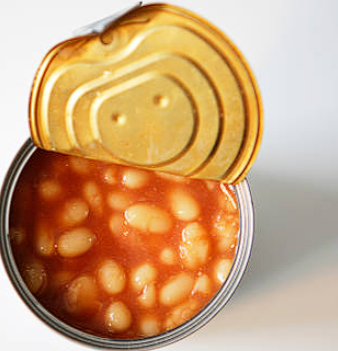Danificado: (2, 6, 259, 348)
